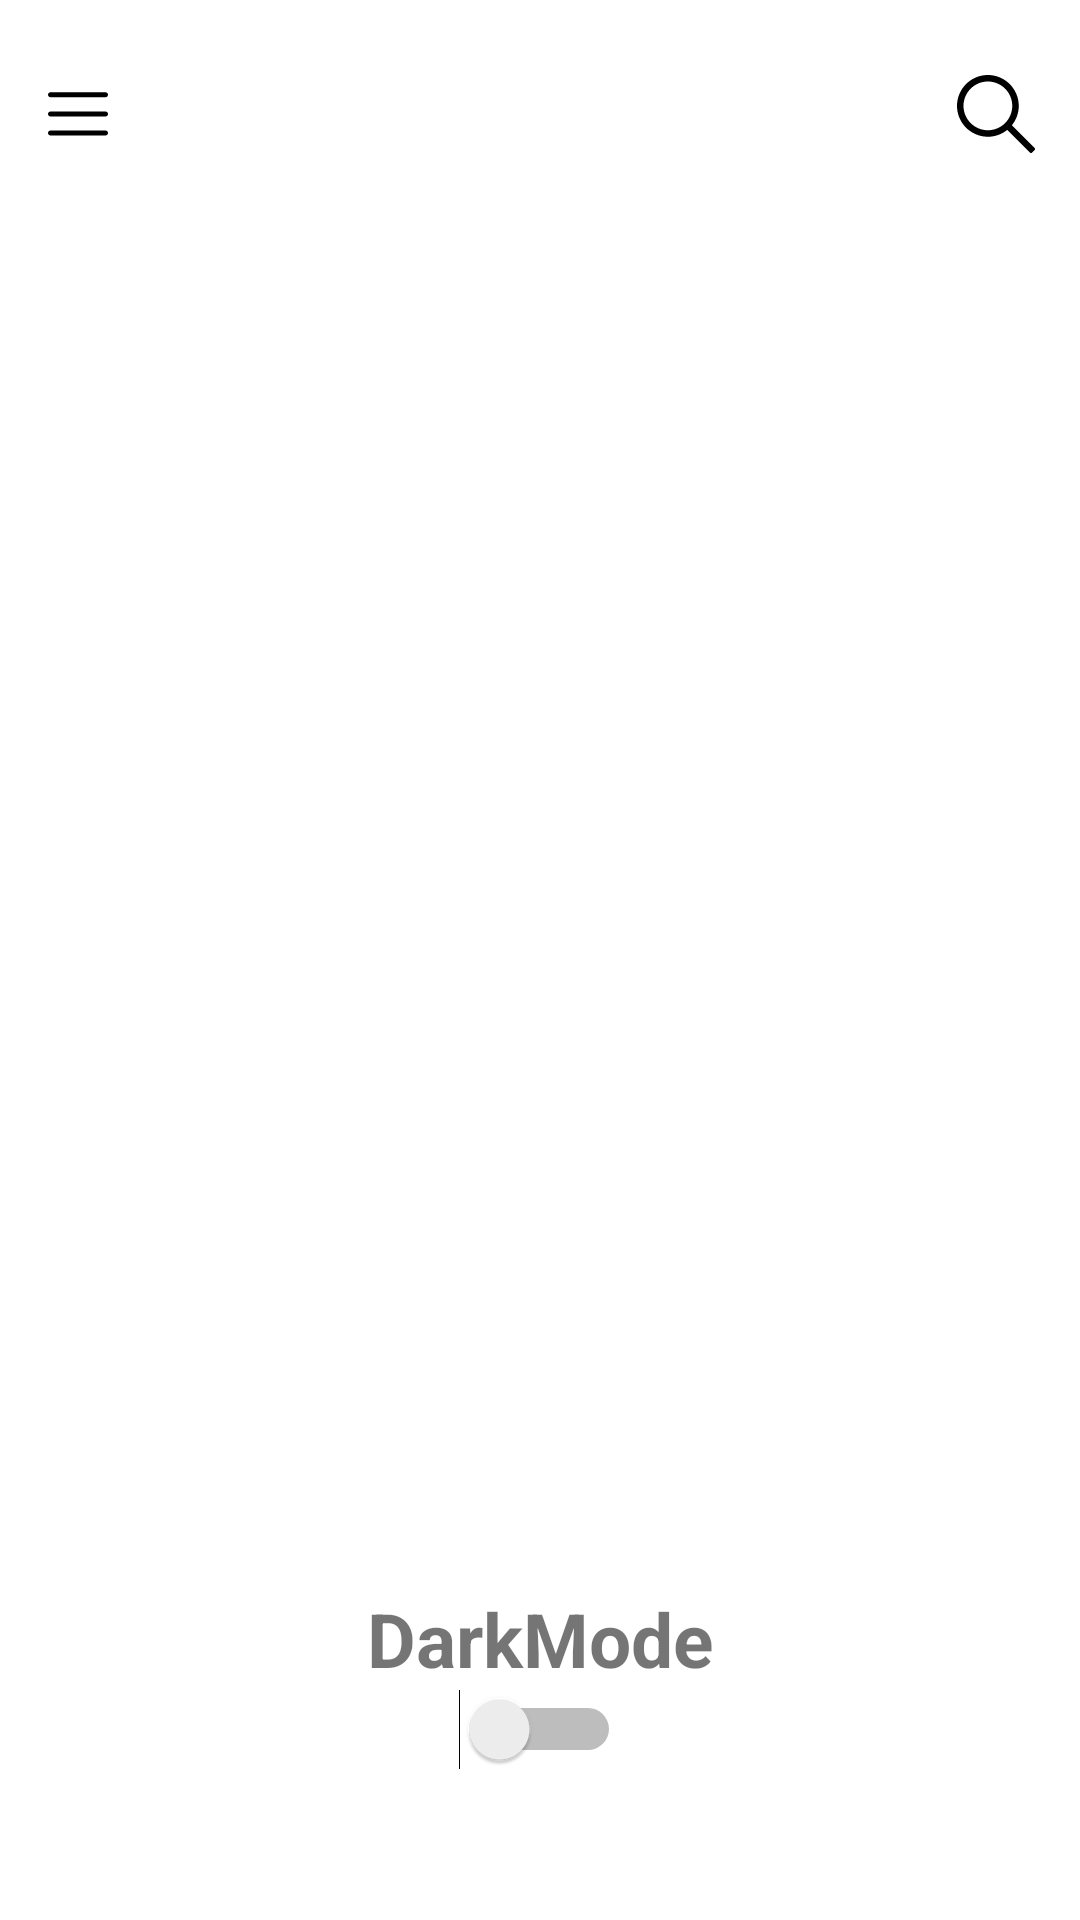

Screen size 1080px x 1920px. Icon name, then its box in pixels as (x1, y1, x2, y2):
open menu: (48, 92, 108, 136)
search: (957, 75, 1035, 153)
